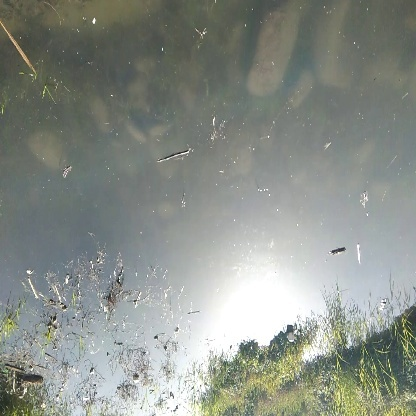grass: (222, 357, 296, 406)
